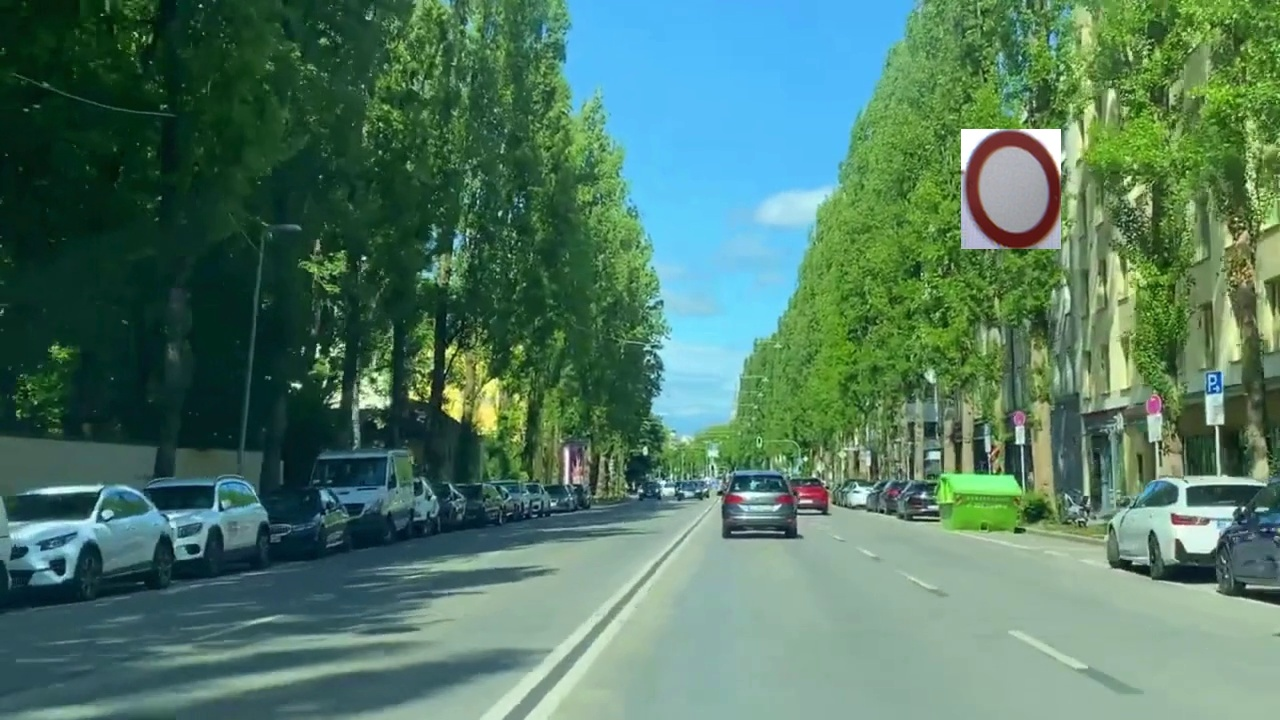No vehicles: (961, 129, 1061, 249)
